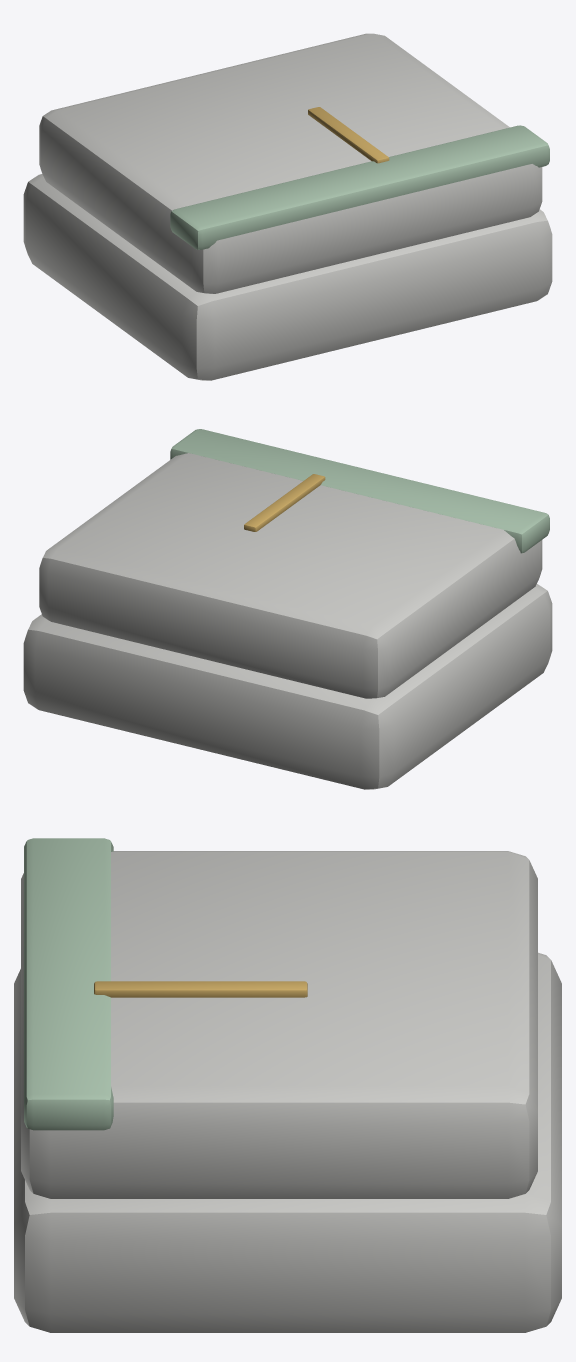
Rendered from checkout_product_folded_bottom.glb.
3 views of the same model, one above another, from view 1: azimuth 30°, elevation 25°; view 2: azimuth 150°, elevation 25°; view 3: azimuth 270°, elevation 25° (orthographic). The views are drawn at different scales.
Visible parts, largest first — view 1: FoldedBottomUpper, FoldedBottomLower, FoldedWaistBand, FoldedFly; view 2: FoldedBottomUpper, FoldedBottomLower, FoldedWaistBand, FoldedFly; view 3: FoldedBottomUpper, FoldedBottomLower, FoldedWaistBand, FoldedFly.
Boxes of the visible parts, x1,y1,x2,y2 form: FoldedBottomUpper: (39, 33, 542, 293); FoldedBottomLower: (23, 174, 552, 380); FoldedWaistBand: (170, 125, 549, 249); FoldedFly: (308, 107, 389, 163); FoldedBottomUpper: (39, 453, 542, 698); FoldedBottomLower: (23, 584, 552, 789); FoldedWaistBand: (170, 429, 549, 553); FoldedFly: (244, 474, 325, 531); FoldedBottomUpper: (21, 851, 537, 1198); FoldedBottomLower: (14, 952, 561, 1332); FoldedWaistBand: (24, 838, 113, 1130); FoldedFly: (94, 981, 307, 997).
Bounding box in the file's own units: 0.23 × 0.098 × 0.195.
